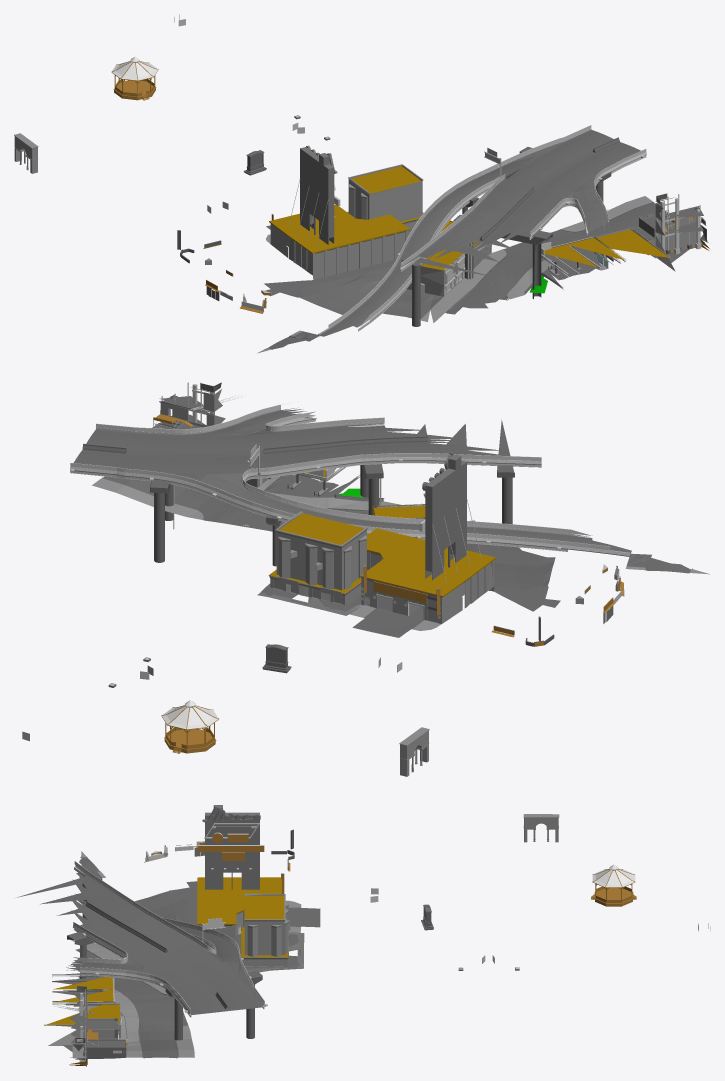
The model's file is brook_s3_4.FBX.
The picture shows the model from 3 angles, top to bottom: view 1: azimuth 30°, elevation 25°; view 2: azimuth 150°, elevation 25°; view 3: azimuth 270°, elevation 25°; orthographic projection. The views are drawn at different scales.
Visible parts, largest first — view 1: unnamed, null; view 2: unnamed, null; view 3: null, unnamed.
Part boxes in pixels (x1,y1,x2,y2): unnamed: (14, 14, 549, 353); null: (418, 125, 709, 299); unnamed: (22, 419, 709, 776); null: (70, 382, 424, 596); null: (44, 903, 303, 1066); unnamed: (17, 805, 710, 978).
Bounding box in the file's own units: 177 × 51.17 × 243.
